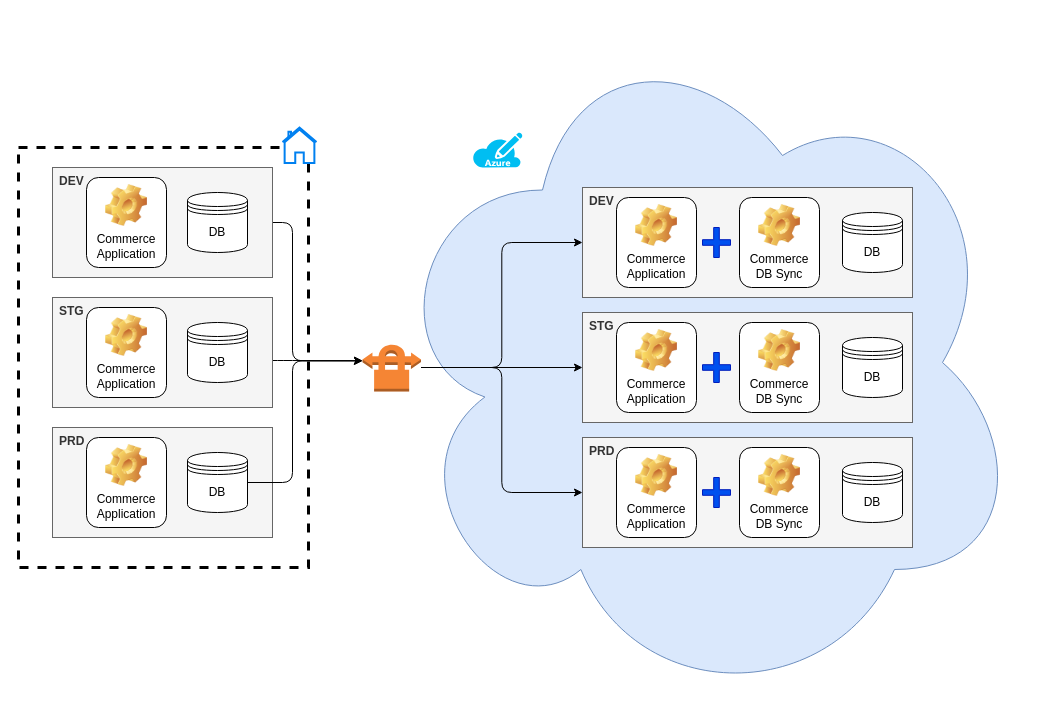
Some shapes in this 1040 by 725 pixel diagram are drawn without their labels. The centre of each missing label's shape, as x and y in pixels:
Azure Subscription: pixel 497 149
On Premise: pixel 299 145
VPN: pixel 391 367
